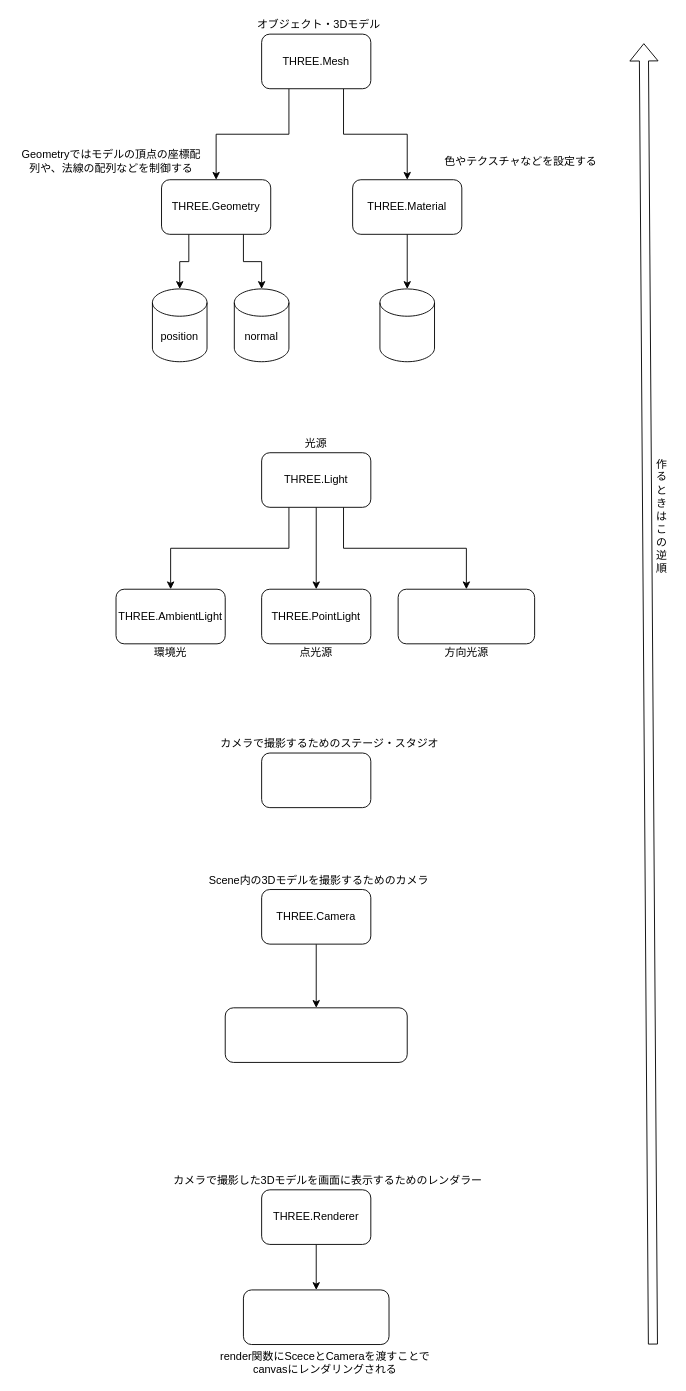
Some shapes in this 686 by 1391 pixel diagram are drawn without their labels. The shapes that lost their labels are listed below. From the top down, each one's centre as x and y in pixels, then its label:
At (407,325): "color".
At (466,616): "THREE.DirectionalLight".
At (316,780): "THREE.Scene".
At (315,1034): "THREE.PerspectiveCamera".
At (316,1317): "THREE.WebGLRenderer".
